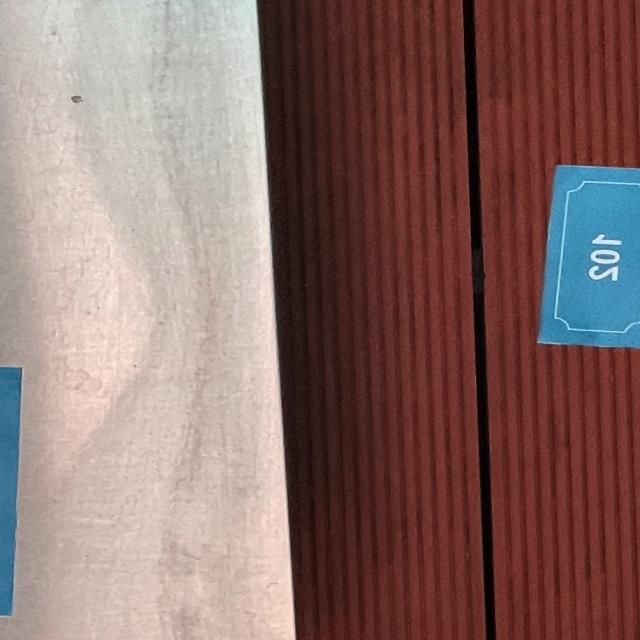Card: (512, 141, 640, 374), (0, 324, 46, 640)
